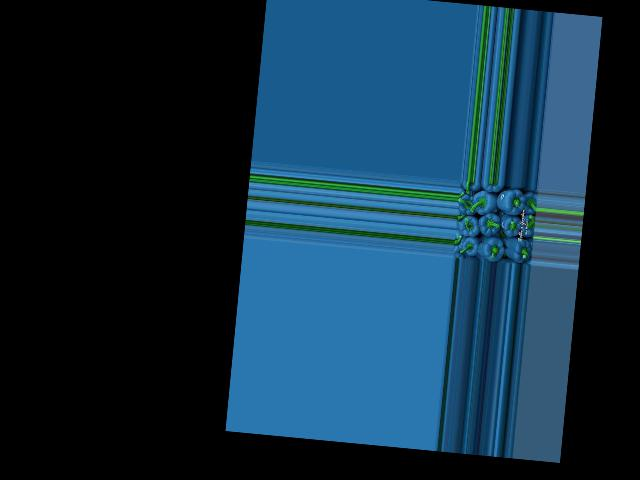bell_pepper: (519, 188, 538, 216)
